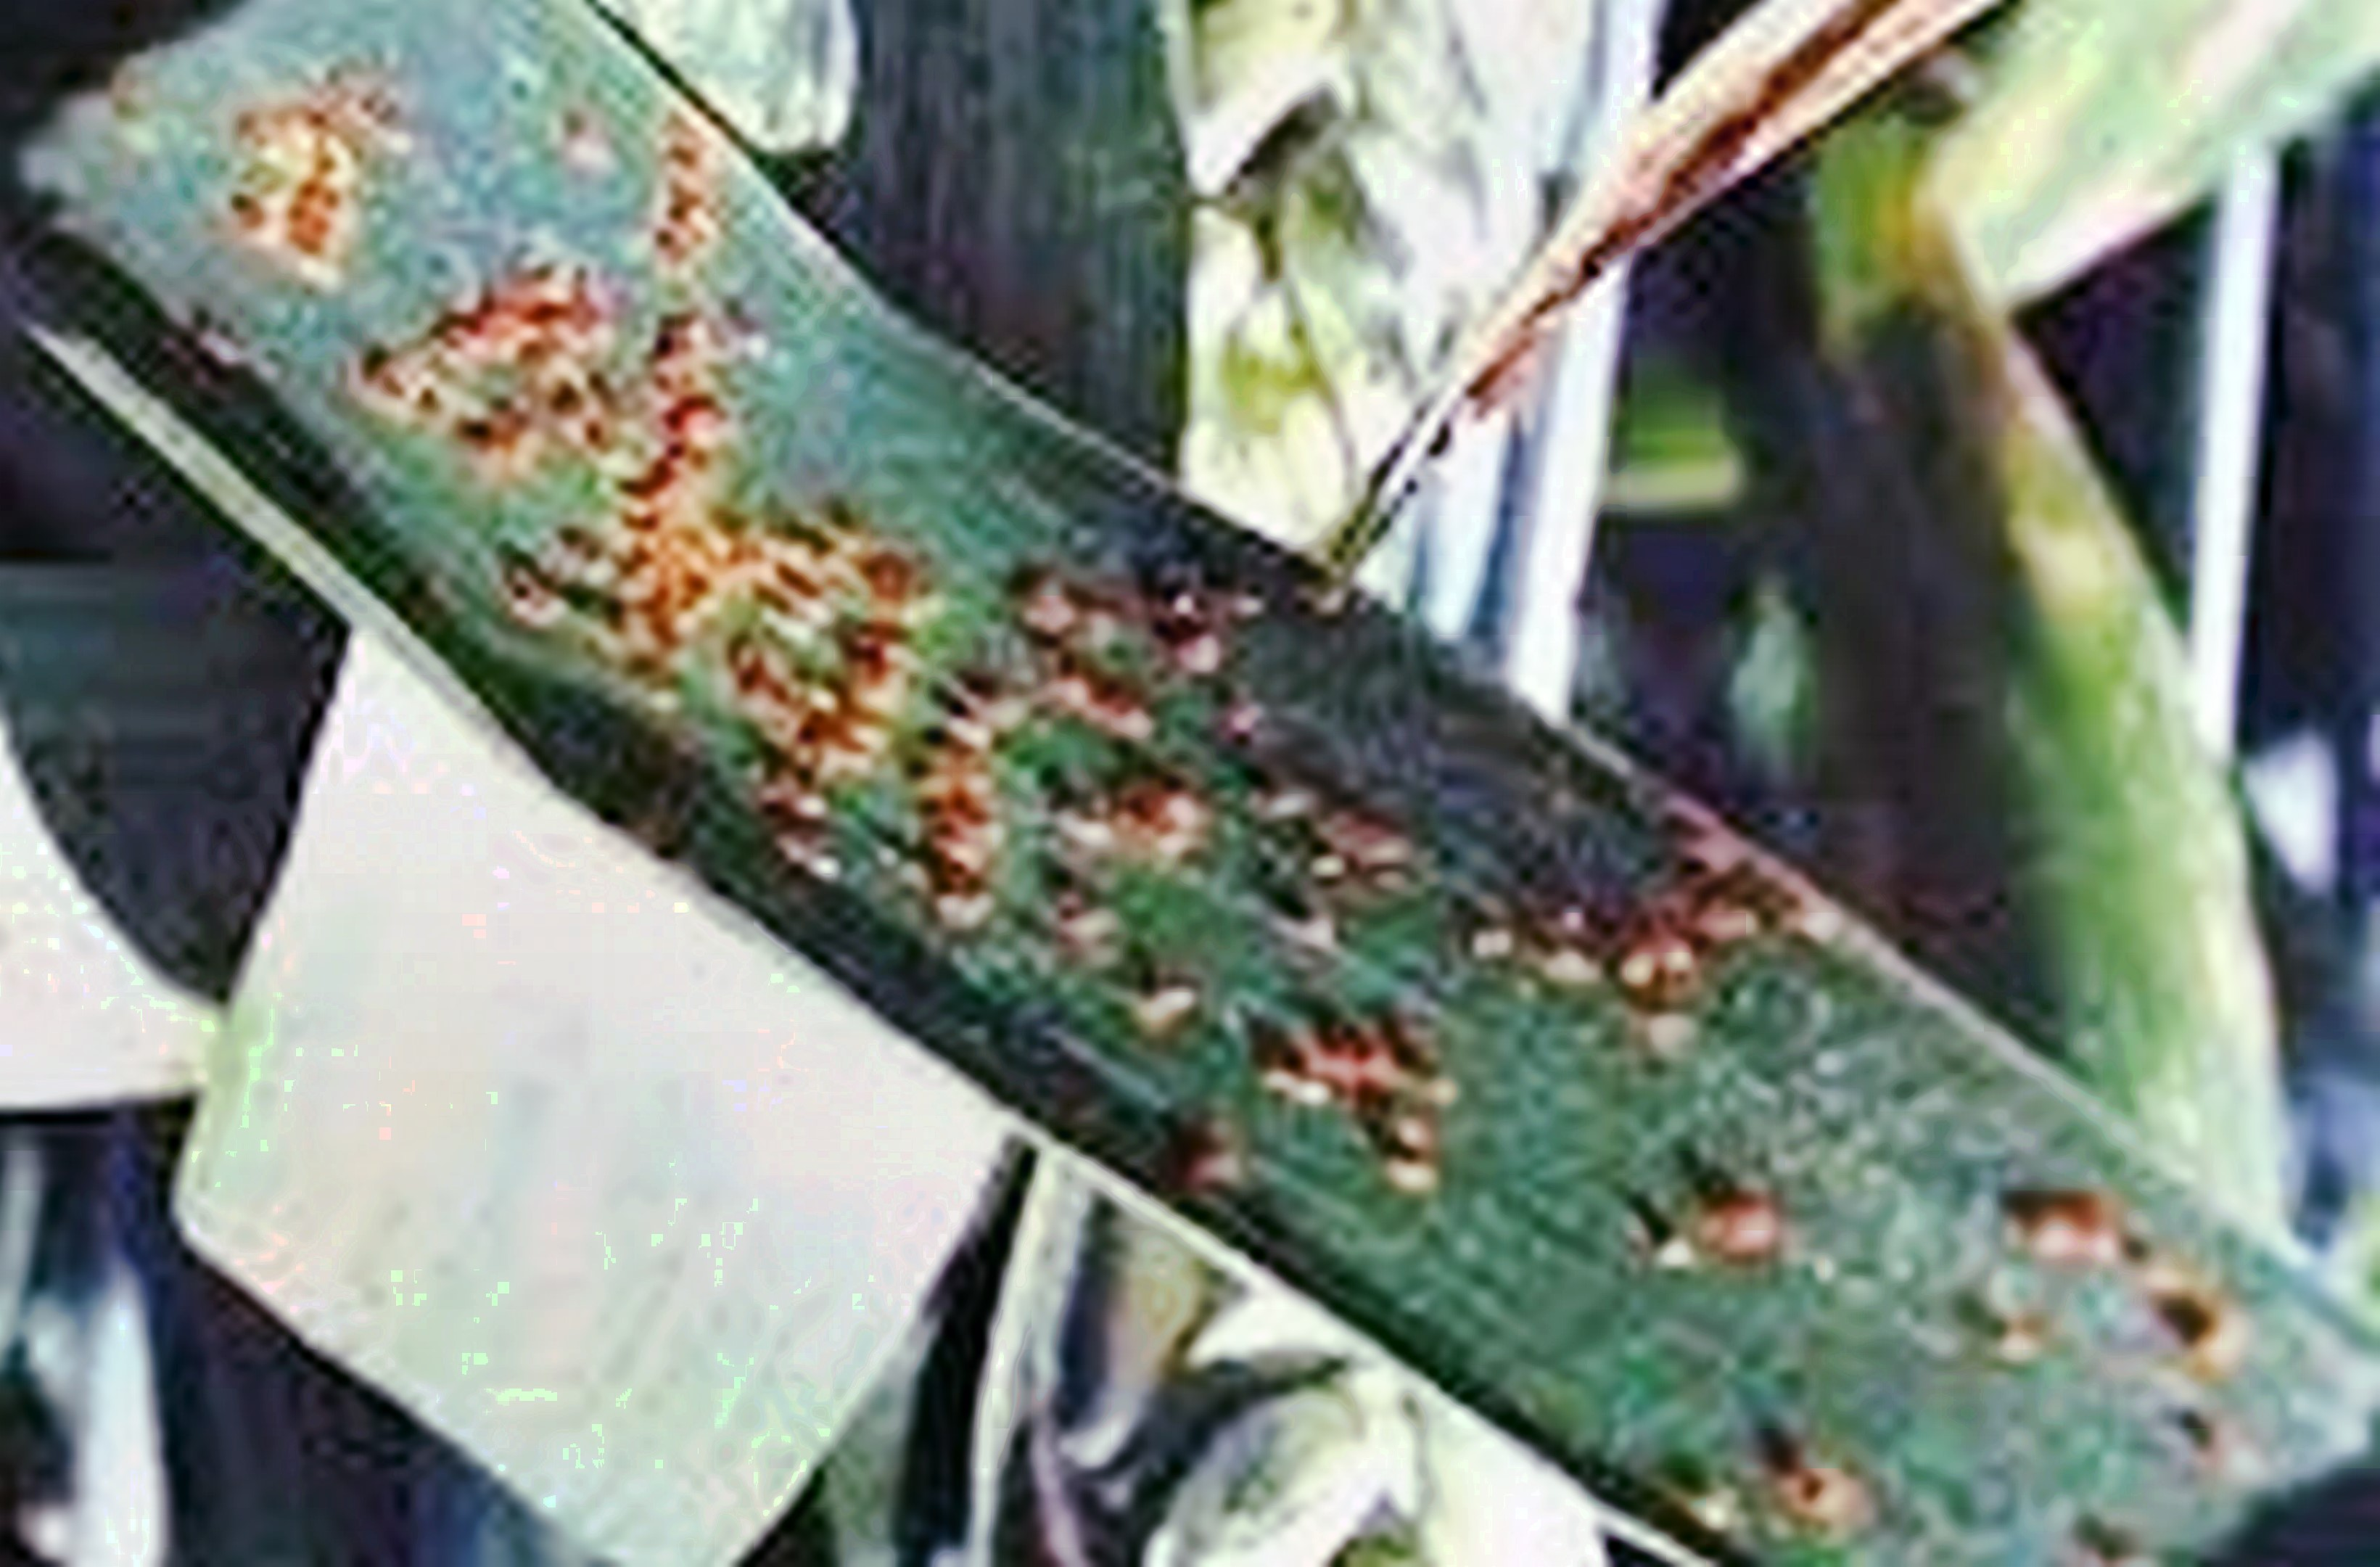Leaf Rust: (367, 241, 1878, 1320)
